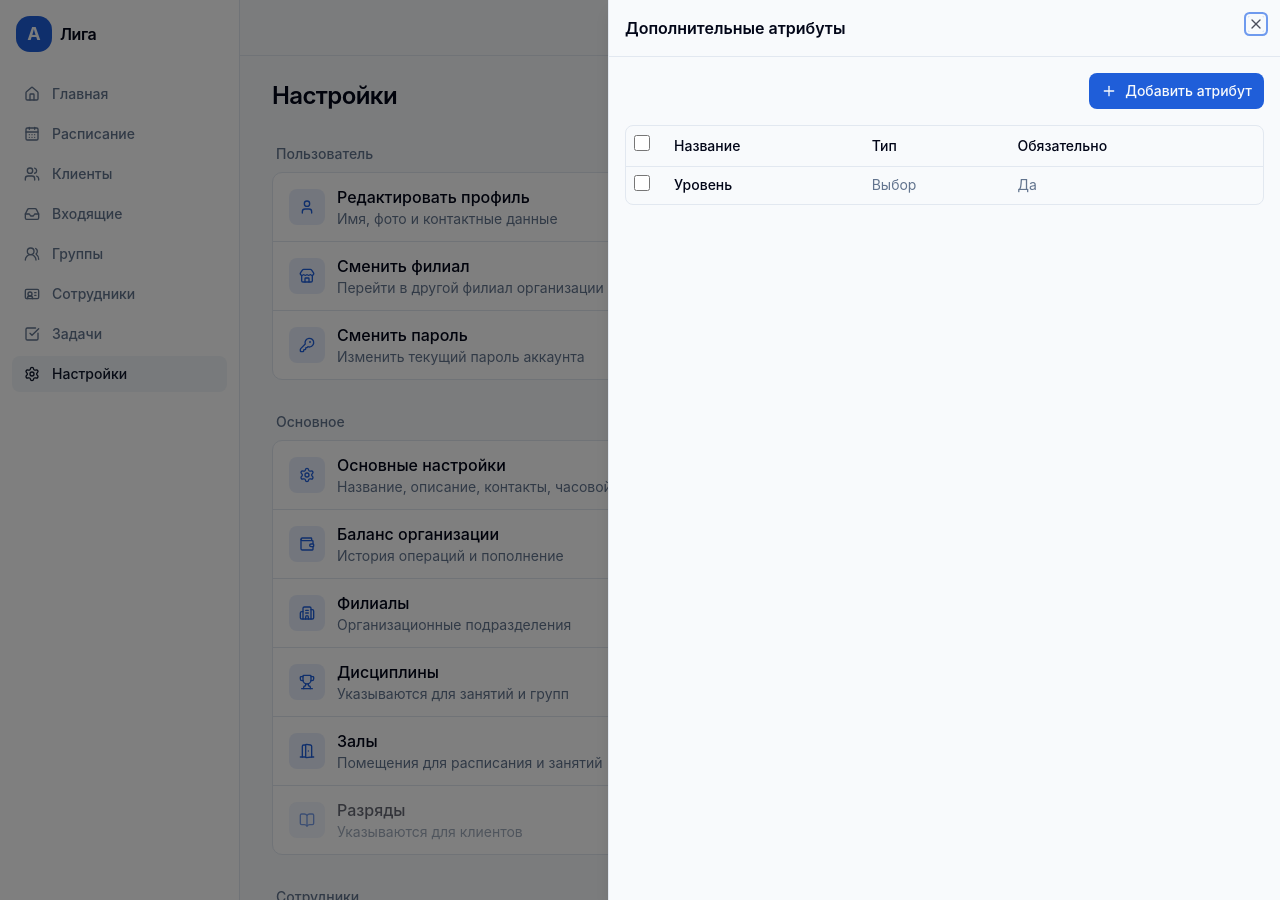
Scenario: дополнительные атрибуты › создаёт числовое поле и отправляет весь набор
This screenshot has width=1280, height=900.
Click the button "Добавить атрибут" at (1177, 91), box [1089, 73, 1264, 109]
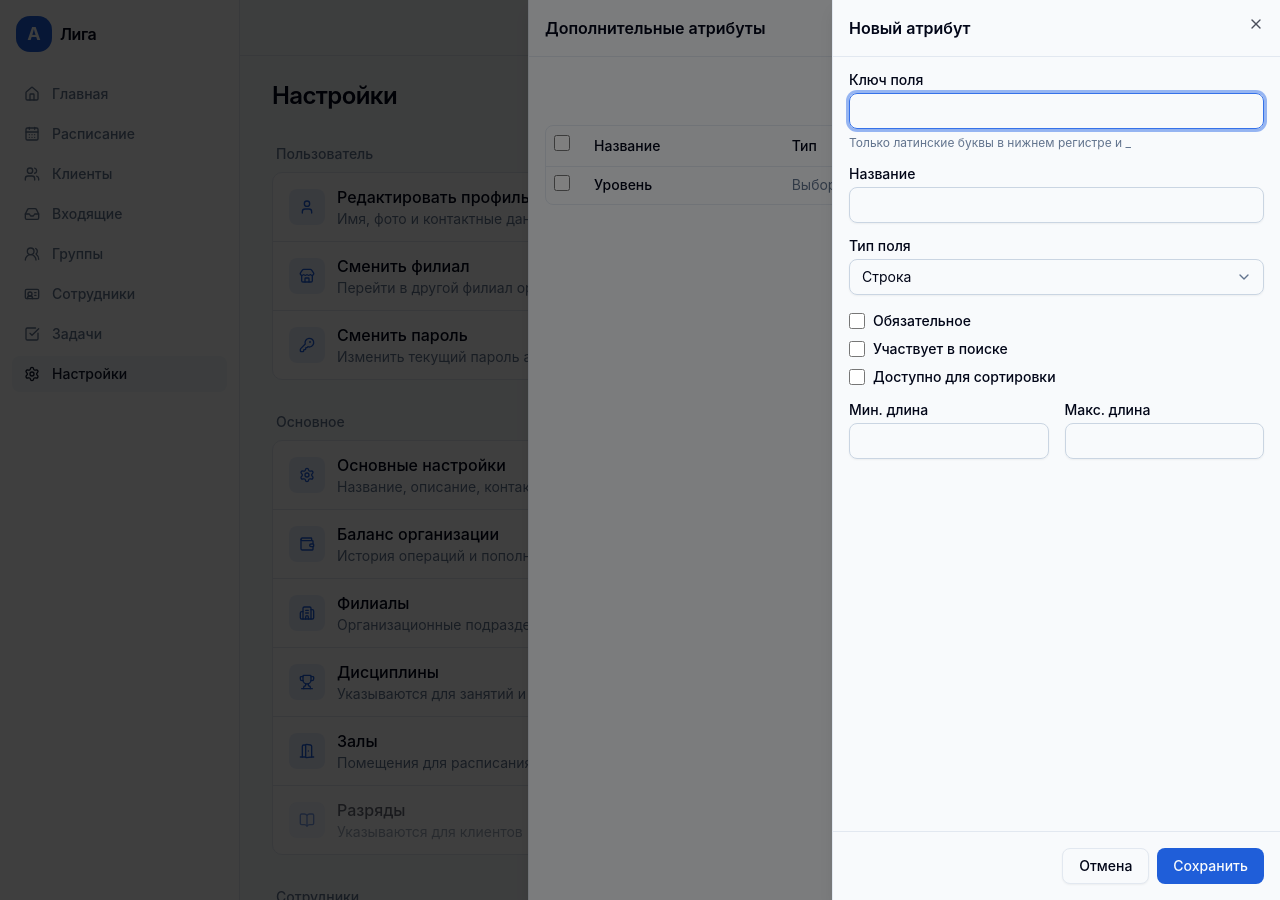
Type "weight" into the field labelled "Ключ поля" at (1056, 111), box [849, 93, 1264, 129]
Type "Вес" into the field labelled "Название" at (1056, 205), box [849, 187, 1264, 223]
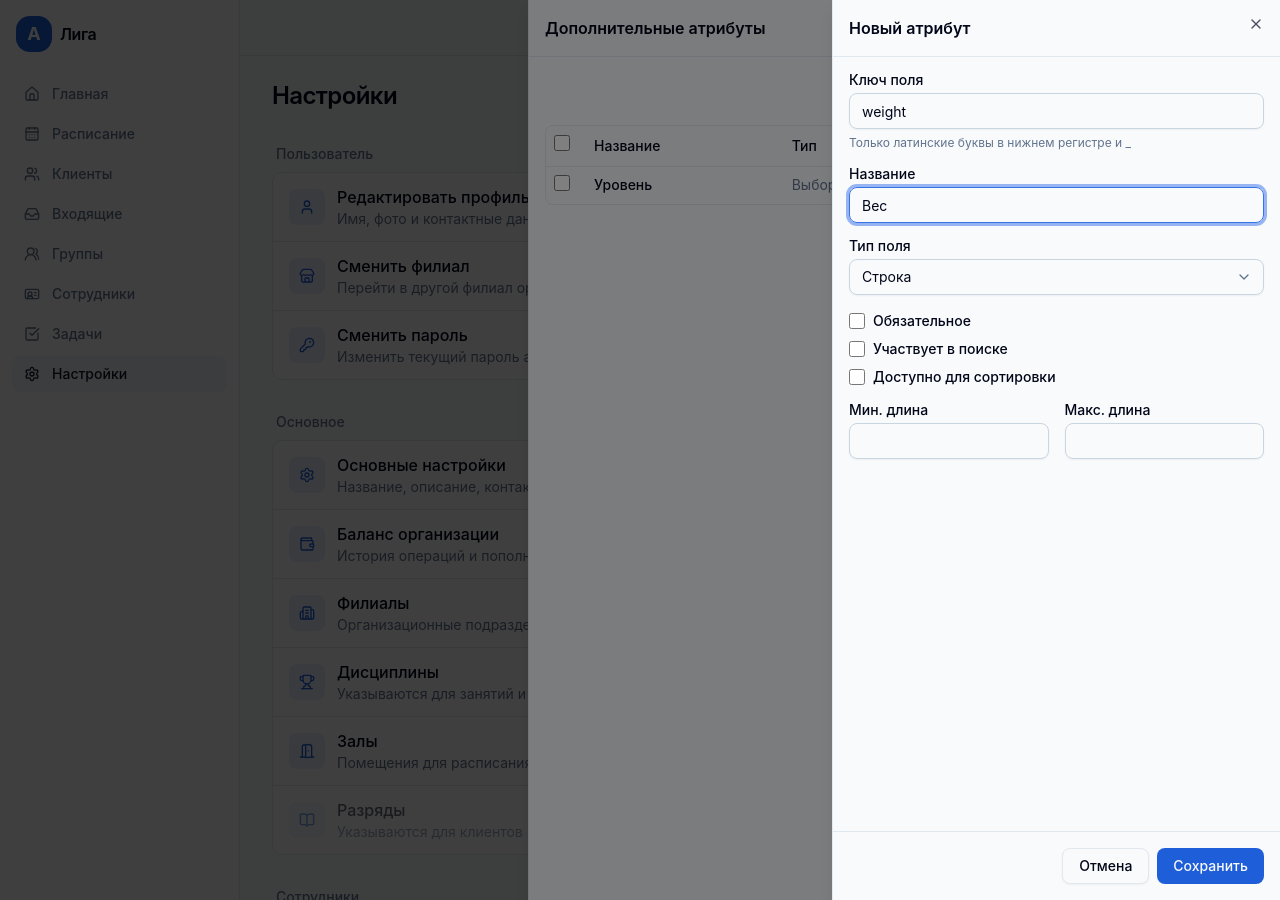
Select "Число" in the dropdown labelled "Тип поля" at (1056, 277), box [849, 259, 1264, 295]
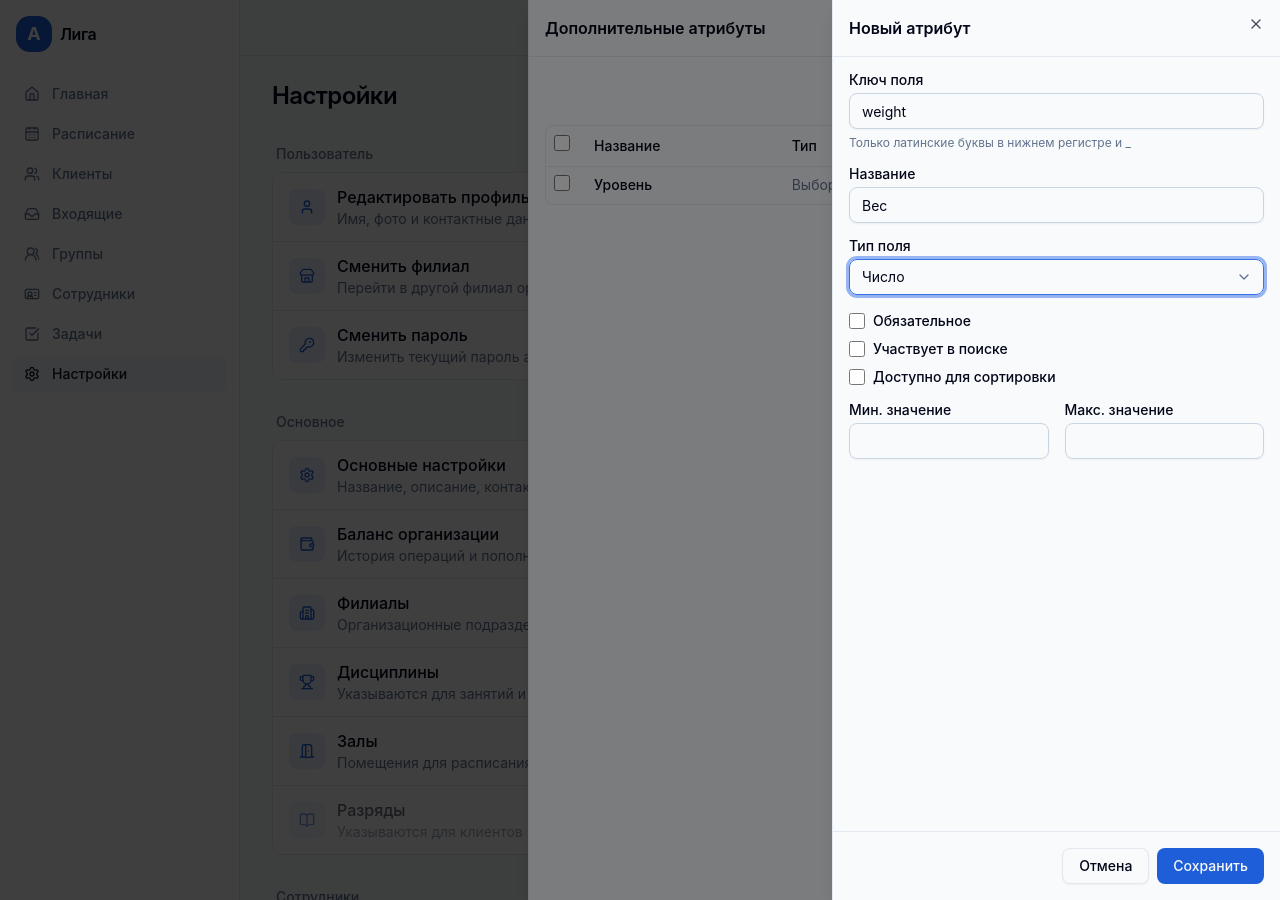
Type "20" into the field labelled "Мин. значение" at (949, 441), box [849, 423, 1048, 459]
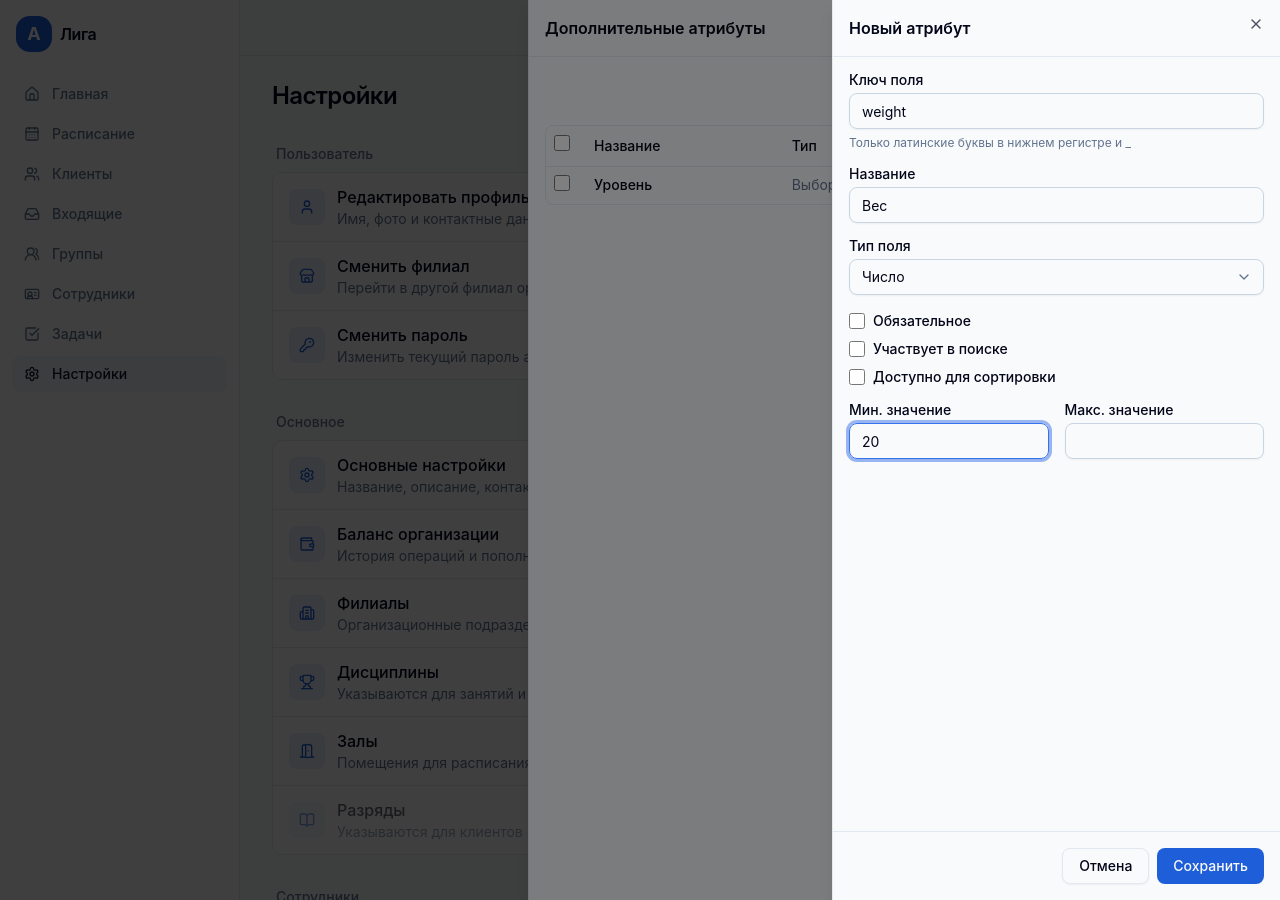
Click the checkbox labelled "Доступно для сортировки" at (857, 377), box [849, 369, 865, 385]
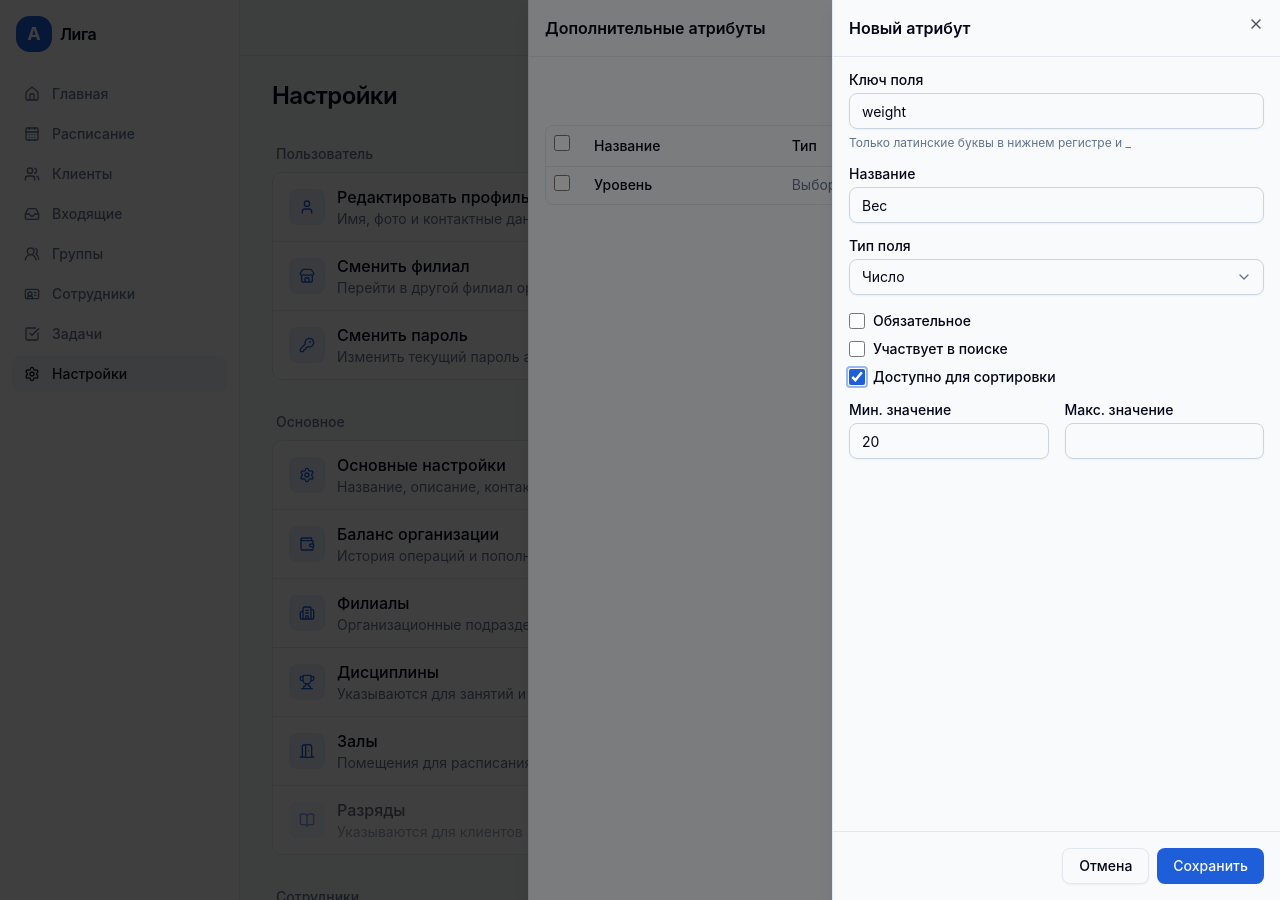
Click the button "Сохранить" at (1211, 866), box [1157, 848, 1264, 884]
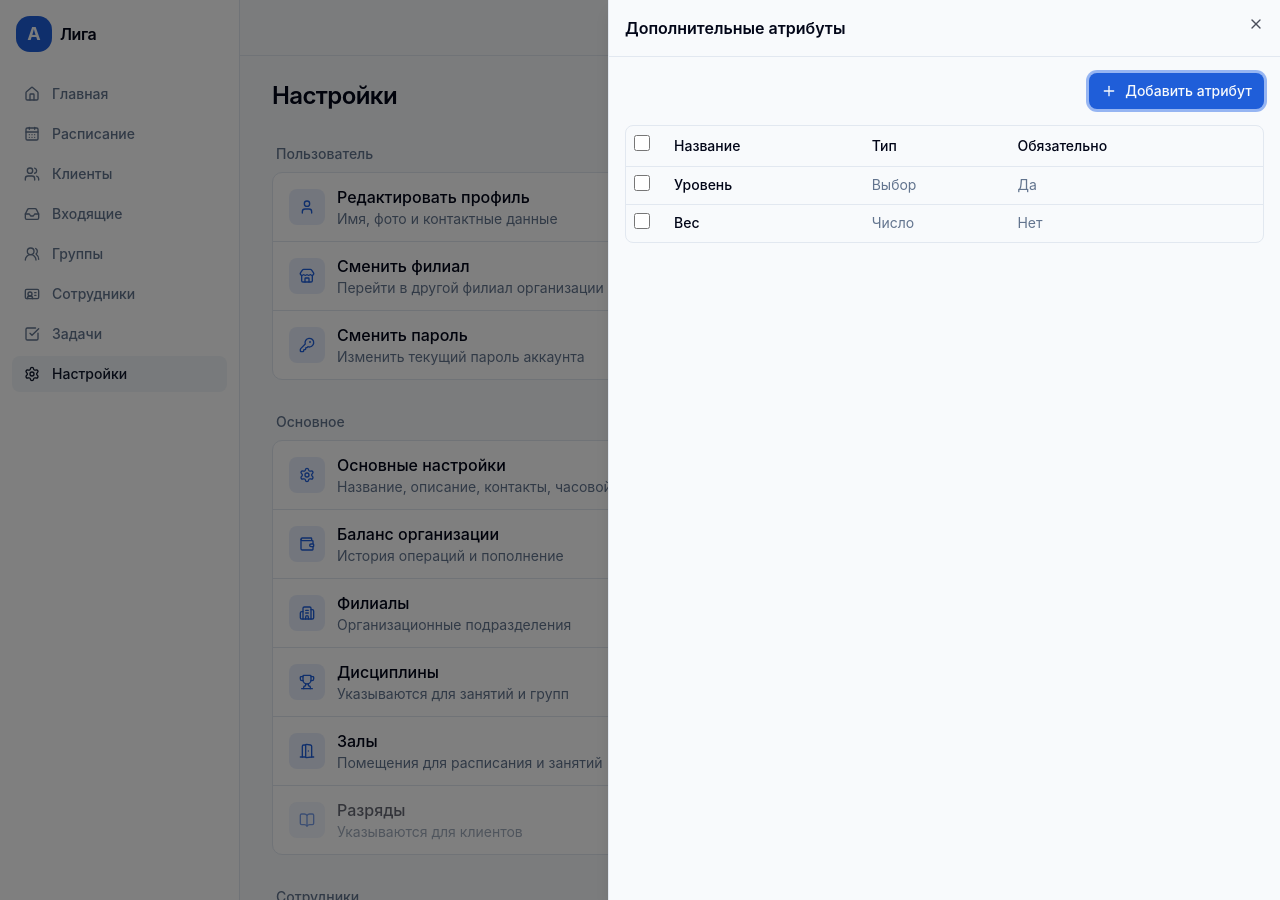
Result: the button with aria-label "Изменить «Вес»" is shown at [674, 213, 700, 233]
